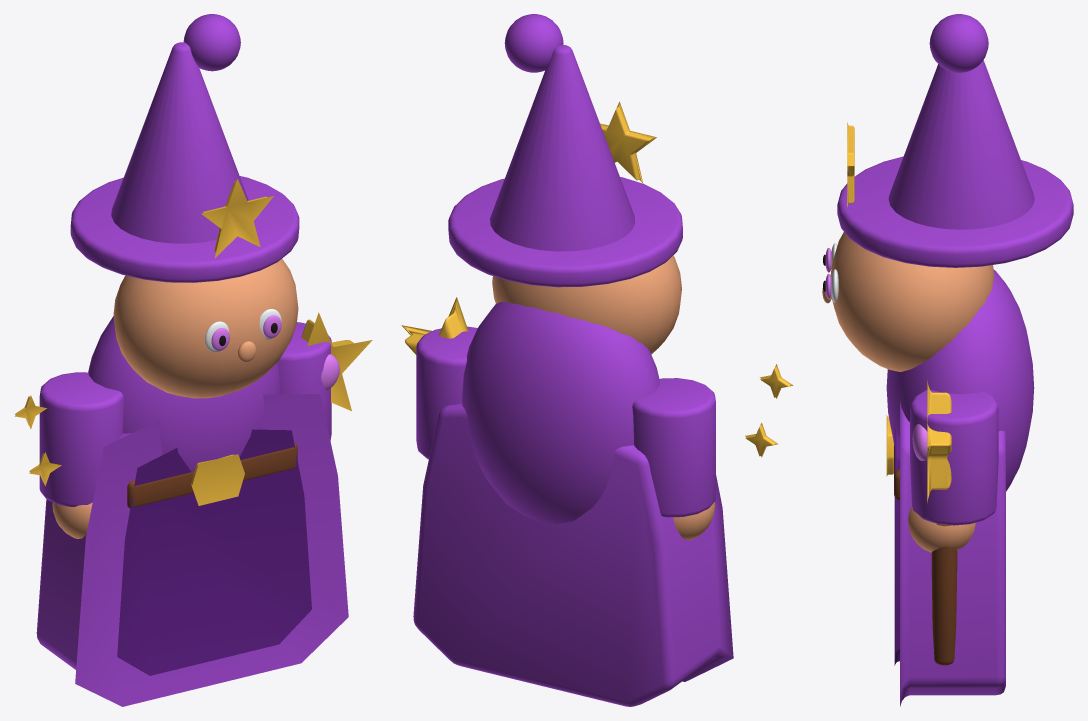
File: AreaMage.fbx
The picture shows the model from 3 angles, left to right: view 1: azimuth 30°, elevation 25°; view 2: azimuth 150°, elevation 25°; view 3: azimuth 270°, elevation 25°; orthographic projection. The views are drawn at different scales.
Parts seen in each view (by area): view 1: Robe Inner Shadow, Layered Mage Robe, Face, Tall Folded Hat, Wide Hat Brim, Mage Tunic, Mage Sleeve L, Mage Sleeve R, Mage Belt, Hat Tip, Hat Star, Mage Buckle (+2 smaller); view 2: Layered Mage Robe, Mage Tunic, Tall Folded Hat, Wide Hat Brim, Mage Sleeve L, Face, Mage Sleeve R, Hat Tip, Hat Star, Star Staff Focus, Mage Hand L; view 3: Tall Folded Hat, Layered Mage Robe, Face, Wide Hat Brim, Mage Tunic, Mage Sleeve R, Runed Staff, Hat Tip, Star Staff Focus, Mage Hand R, Robe Inner Shadow, Hat Star (+2 smaller).
Part boxes in pixels (x1,y1,x2,y2): Robe Inner Shadow: (117, 429, 311, 675); Layered Mage Robe: (36, 394, 348, 706); Face: (113, 258, 298, 398); Tall Folded Hat: (111, 42, 248, 243); Wide Hat Brim: (70, 176, 299, 282); Mage Tunic: (88, 316, 280, 472); Mage Sleeve L: (39, 372, 123, 506); Mage Sleeve R: (277, 322, 331, 440); Mage Belt: (127, 442, 297, 508); Hat Tip: (183, 14, 240, 71); Hat Star: (201, 179, 273, 258); Mage Buckle: (191, 454, 244, 505); Layered Mage Robe: (413, 403, 733, 706); Mage Tunic: (462, 302, 659, 523); Tall Folded Hat: (490, 45, 635, 251); Wide Hat Brim: (448, 177, 682, 287); Mage Sleeve L: (632, 378, 715, 517); Face: (492, 255, 681, 354); Mage Sleeve R: (416, 326, 477, 459); Hat Tip: (504, 14, 563, 72); Hat Star: (600, 101, 656, 183); Star Staff Focus: (401, 297, 468, 354); Mage Hand L: (673, 501, 715, 540); Tall Folded Hat: (888, 60, 1034, 229); Layered Mage Robe: (900, 401, 1005, 706); Face: (830, 232, 994, 371); Wide Hat Brim: (837, 156, 1073, 267); Mage Tunic: (886, 269, 1034, 491); Mage Sleeve R: (910, 389, 998, 525); Runed Staff: (931, 546, 957, 665); Hat Tip: (929, 14, 988, 72); Star Staff Focus: (927, 380, 951, 502); Mage Hand R: (908, 506, 975, 552); Robe Inner Shadow: (894, 426, 899, 665); Hat Star: (847, 122, 854, 206).
Size of the model in its own units: 179 by 296 by 102.
